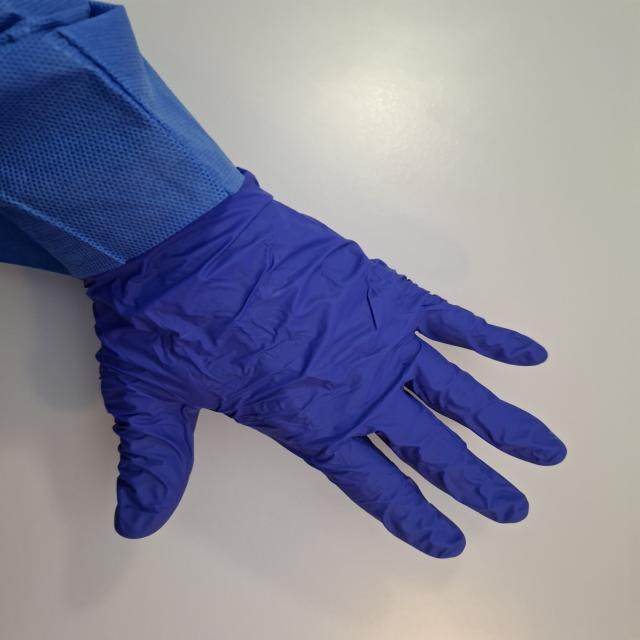glove_on: (82, 178, 570, 561)
